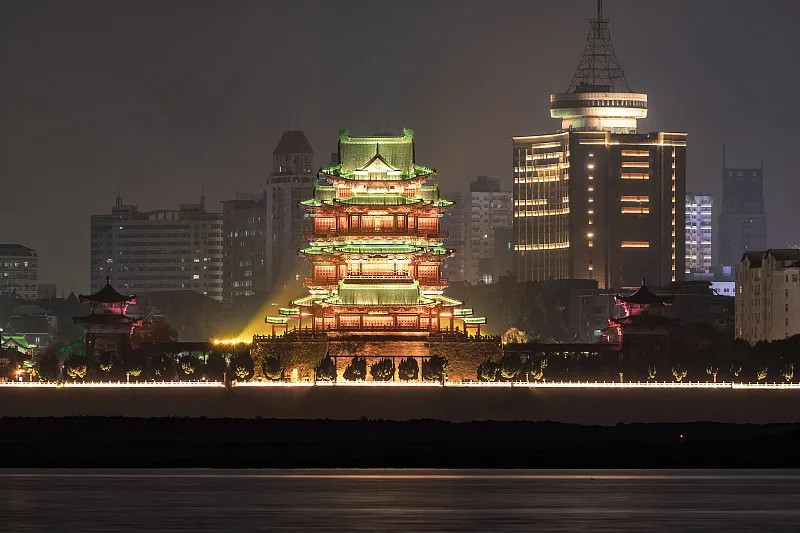Teng: (264, 127, 488, 338)
